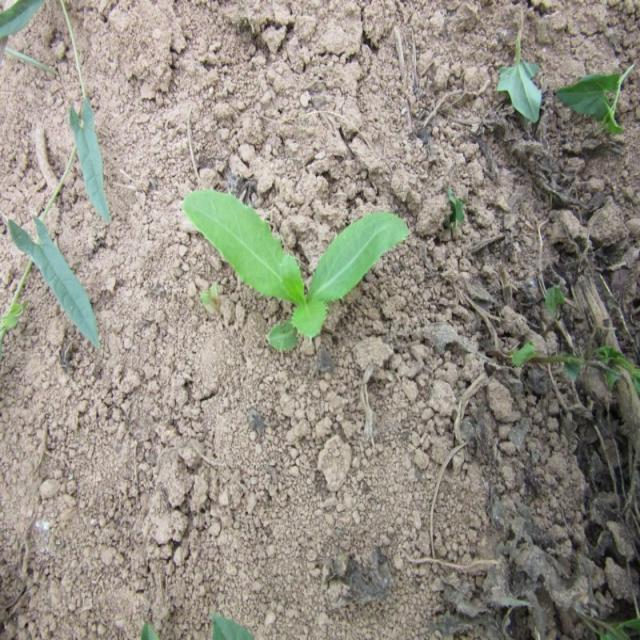field_thistle: (146, 124, 414, 402)
